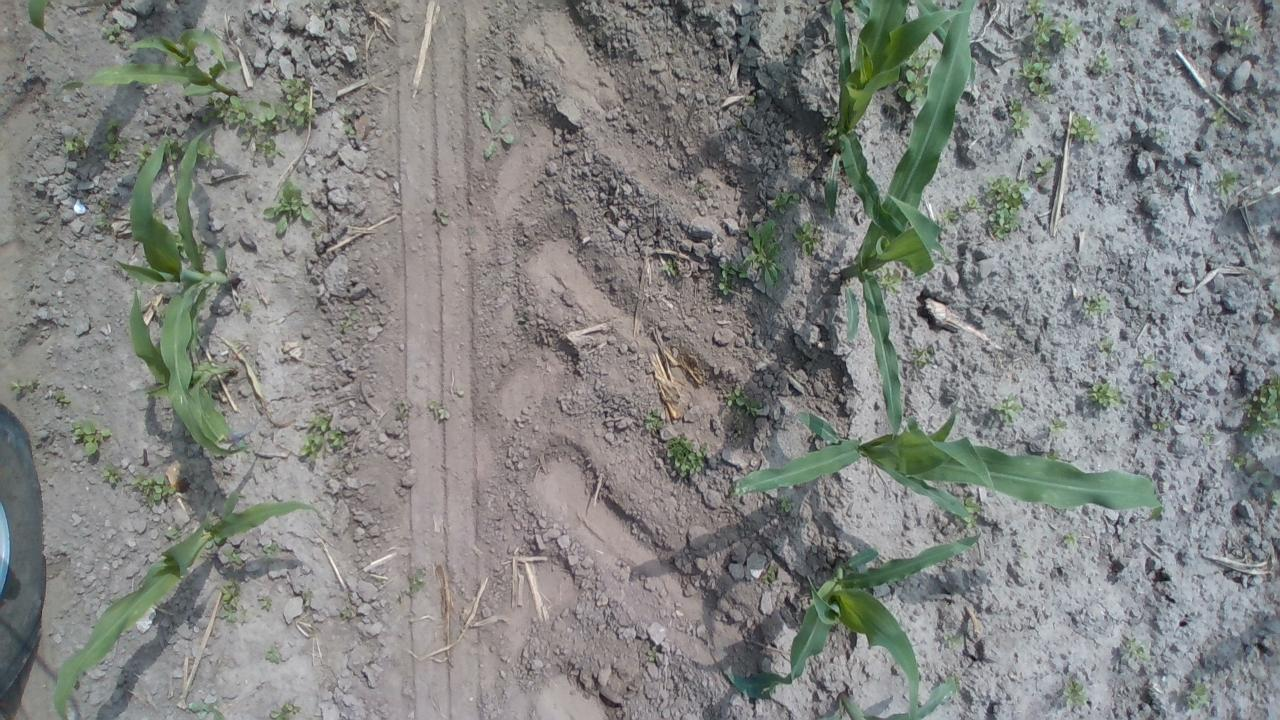Maize: (52, 490, 330, 720), (838, 0, 976, 434), (714, 529, 982, 720), (734, 410, 1166, 522), (109, 126, 253, 456), (823, 0, 954, 262), (126, 285, 249, 438), (50, 26, 242, 96), (28, 0, 188, 44), (810, 676, 958, 720), (839, 0, 956, 44)
Weeds: (200, 94, 286, 160), (261, 178, 320, 238), (738, 219, 787, 287), (894, 38, 942, 106), (982, 175, 1028, 239), (1241, 373, 1280, 437), (1013, 54, 1054, 104), (727, 386, 762, 438), (280, 78, 317, 127), (666, 436, 709, 478), (482, 110, 516, 158), (298, 412, 330, 461), (70, 419, 112, 456), (130, 472, 174, 507), (100, 118, 132, 162), (1028, 12, 1056, 53), (792, 220, 823, 256), (1086, 381, 1126, 407), (1068, 112, 1100, 144), (1007, 97, 1033, 133), (219, 578, 239, 622), (994, 395, 1024, 424), (1061, 678, 1090, 708), (97, 19, 126, 45), (716, 262, 738, 296), (59, 132, 87, 158), (1124, 634, 1150, 662), (770, 191, 800, 215), (878, 265, 902, 295), (188, 701, 225, 720), (1085, 50, 1113, 75), (1059, 18, 1082, 48), (962, 496, 982, 528), (1226, 22, 1251, 47), (195, 138, 221, 162), (1187, 683, 1210, 709), (1084, 292, 1108, 316), (910, 345, 934, 369), (1214, 170, 1236, 196), (270, 701, 300, 720), (164, 138, 188, 161), (6, 377, 36, 395), (172, 231, 190, 261), (822, 112, 838, 144), (1032, 156, 1054, 178), (342, 304, 359, 330), (1226, 451, 1252, 468), (1155, 369, 1176, 390), (961, 194, 985, 212), (645, 409, 665, 430), (135, 143, 151, 168), (940, 206, 960, 226), (1173, 12, 1194, 31), (340, 106, 354, 134), (326, 428, 346, 447), (102, 464, 120, 484), (165, 523, 182, 544), (1098, 336, 1114, 358), (428, 402, 447, 420), (222, 547, 242, 564), (1048, 417, 1068, 434), (941, 634, 964, 648), (260, 542, 276, 562), (1138, 354, 1158, 370), (1025, 0, 1045, 16), (436, 206, 452, 226), (410, 570, 424, 591), (1212, 107, 1226, 128), (762, 566, 778, 584), (780, 494, 796, 512), (265, 646, 279, 664), (661, 260, 676, 276), (1202, 428, 1216, 445), (54, 391, 73, 403), (1119, 16, 1137, 28), (1062, 531, 1076, 546), (240, 300, 253, 316), (157, 302, 167, 322), (94, 216, 110, 228), (302, 588, 312, 606), (1150, 420, 1170, 429), (396, 401, 405, 421), (646, 646, 657, 662), (1270, 490, 1280, 506), (98, 196, 109, 210), (261, 595, 271, 610), (1042, 450, 1058, 459), (198, 242, 208, 256), (1156, 130, 1166, 142), (694, 184, 708, 192), (746, 94, 756, 105), (204, 540, 214, 550), (341, 609, 351, 617), (184, 429, 192, 437), (1008, 326, 1016, 334), (518, 316, 526, 322), (1274, 302, 1280, 310), (396, 594, 402, 602), (735, 120, 742, 125), (340, 461, 347, 465)
